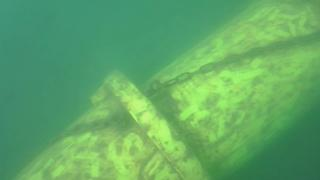pipe: (6, 1, 320, 179)
